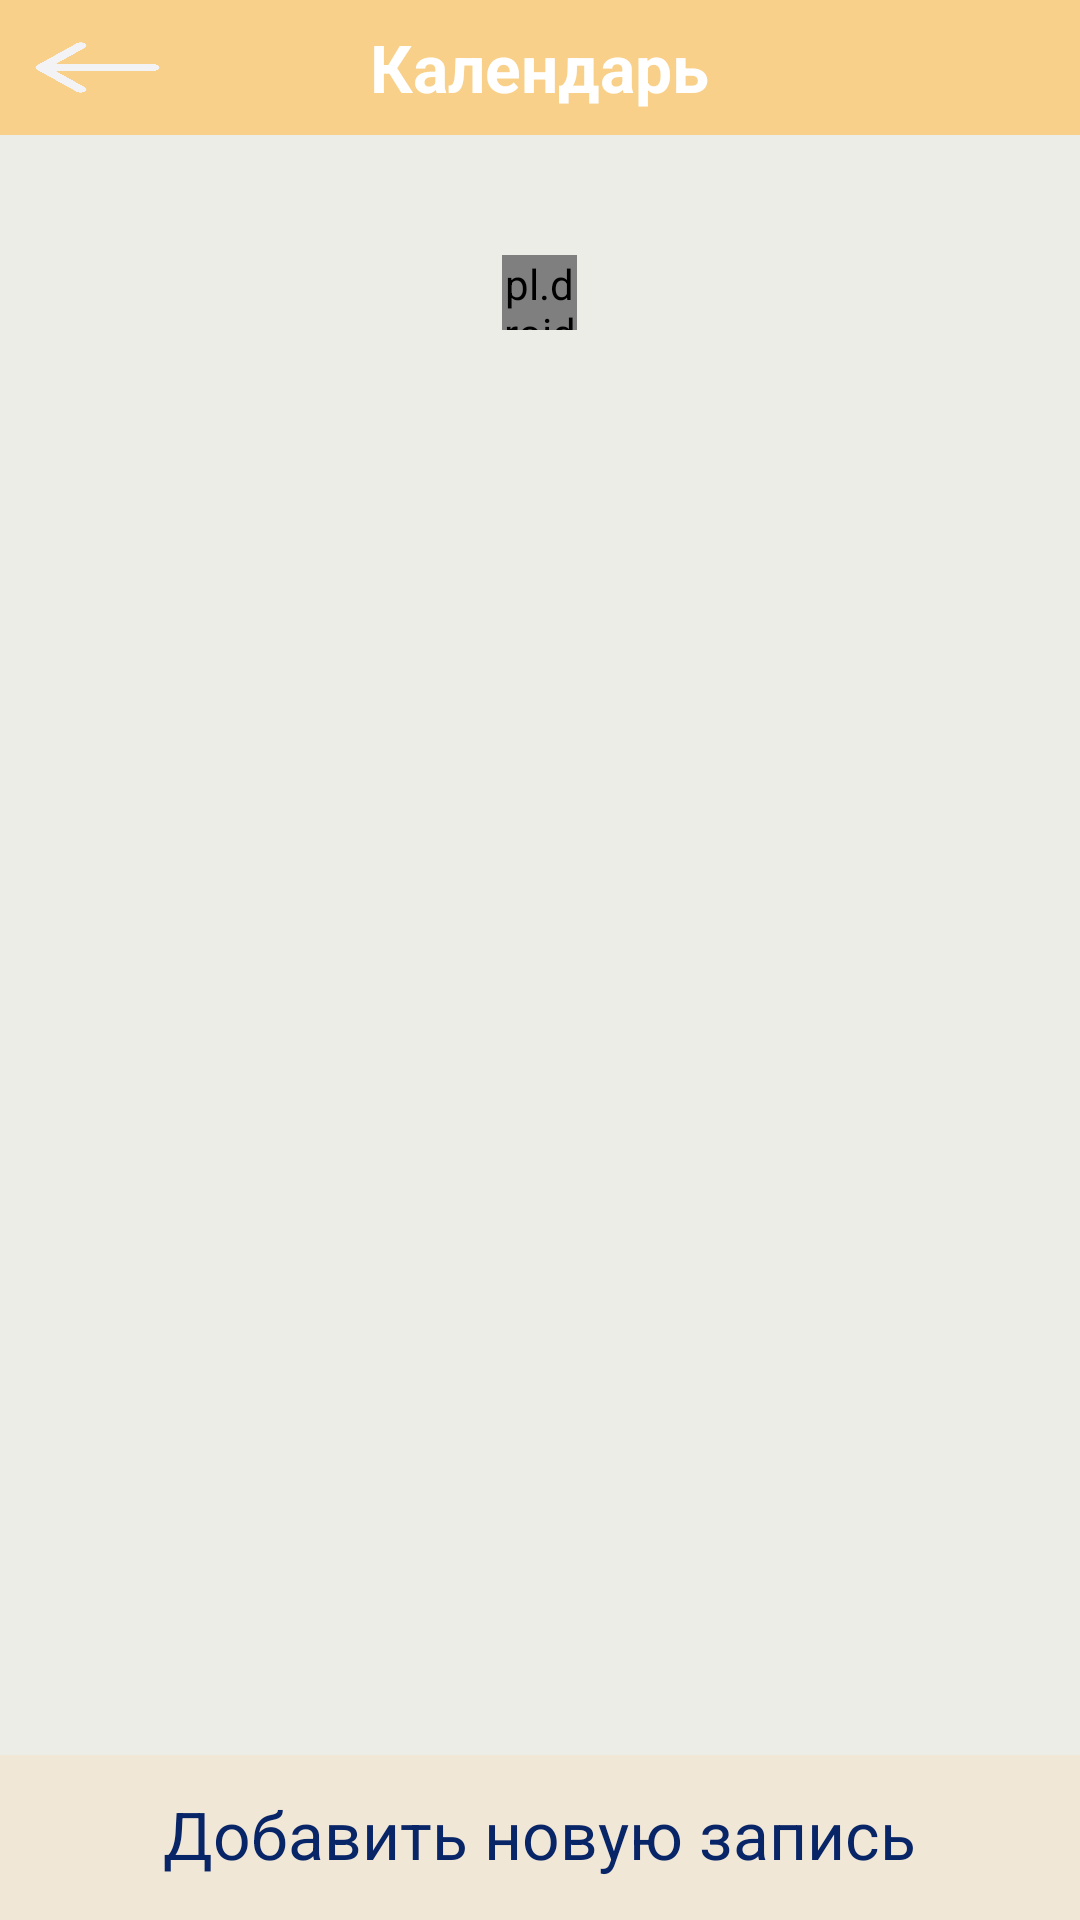

Icons on this 1080 × 1920 Android screen, each with its box as (x1=x1, y1=y1, x2=x2, y2=y2):
arrowback: (x1=35, y1=42, x2=160, y2=93)
